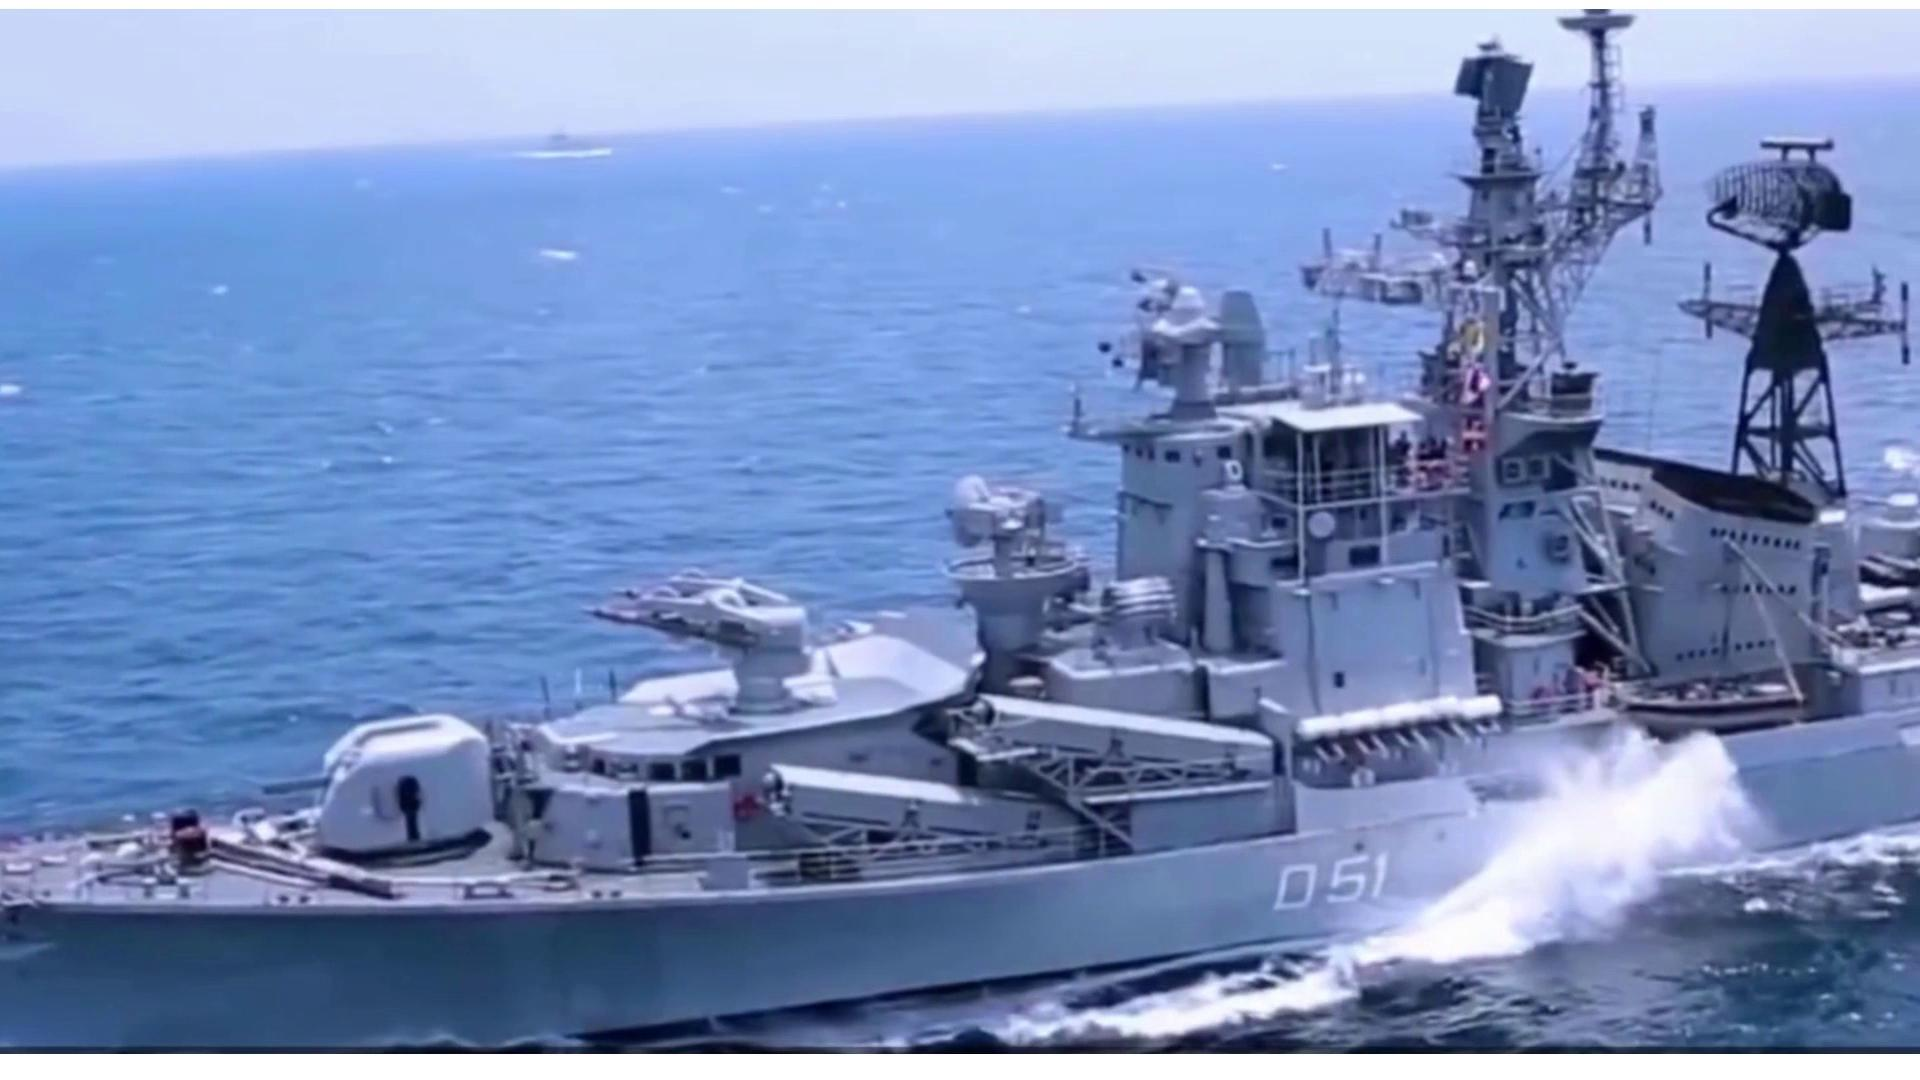OCR: (1258, 838, 1398, 924)
